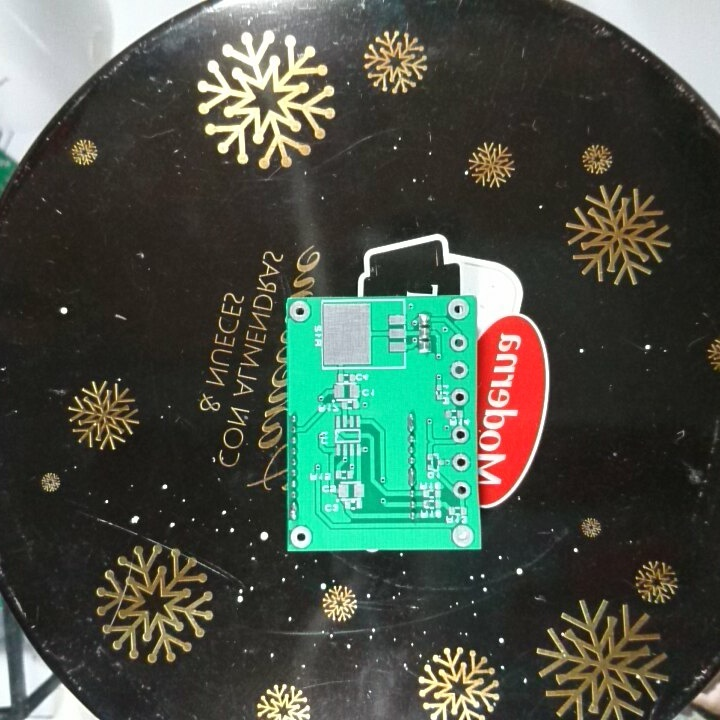F: (289, 525, 315, 550), (288, 299, 313, 325), (445, 297, 471, 321), (451, 523, 474, 549), (448, 331, 470, 354), (448, 359, 469, 381), (451, 480, 473, 501), (450, 387, 471, 408), (449, 452, 471, 472), (451, 423, 470, 445)
P: (406, 411, 419, 436), (288, 499, 300, 523), (406, 466, 418, 489)
